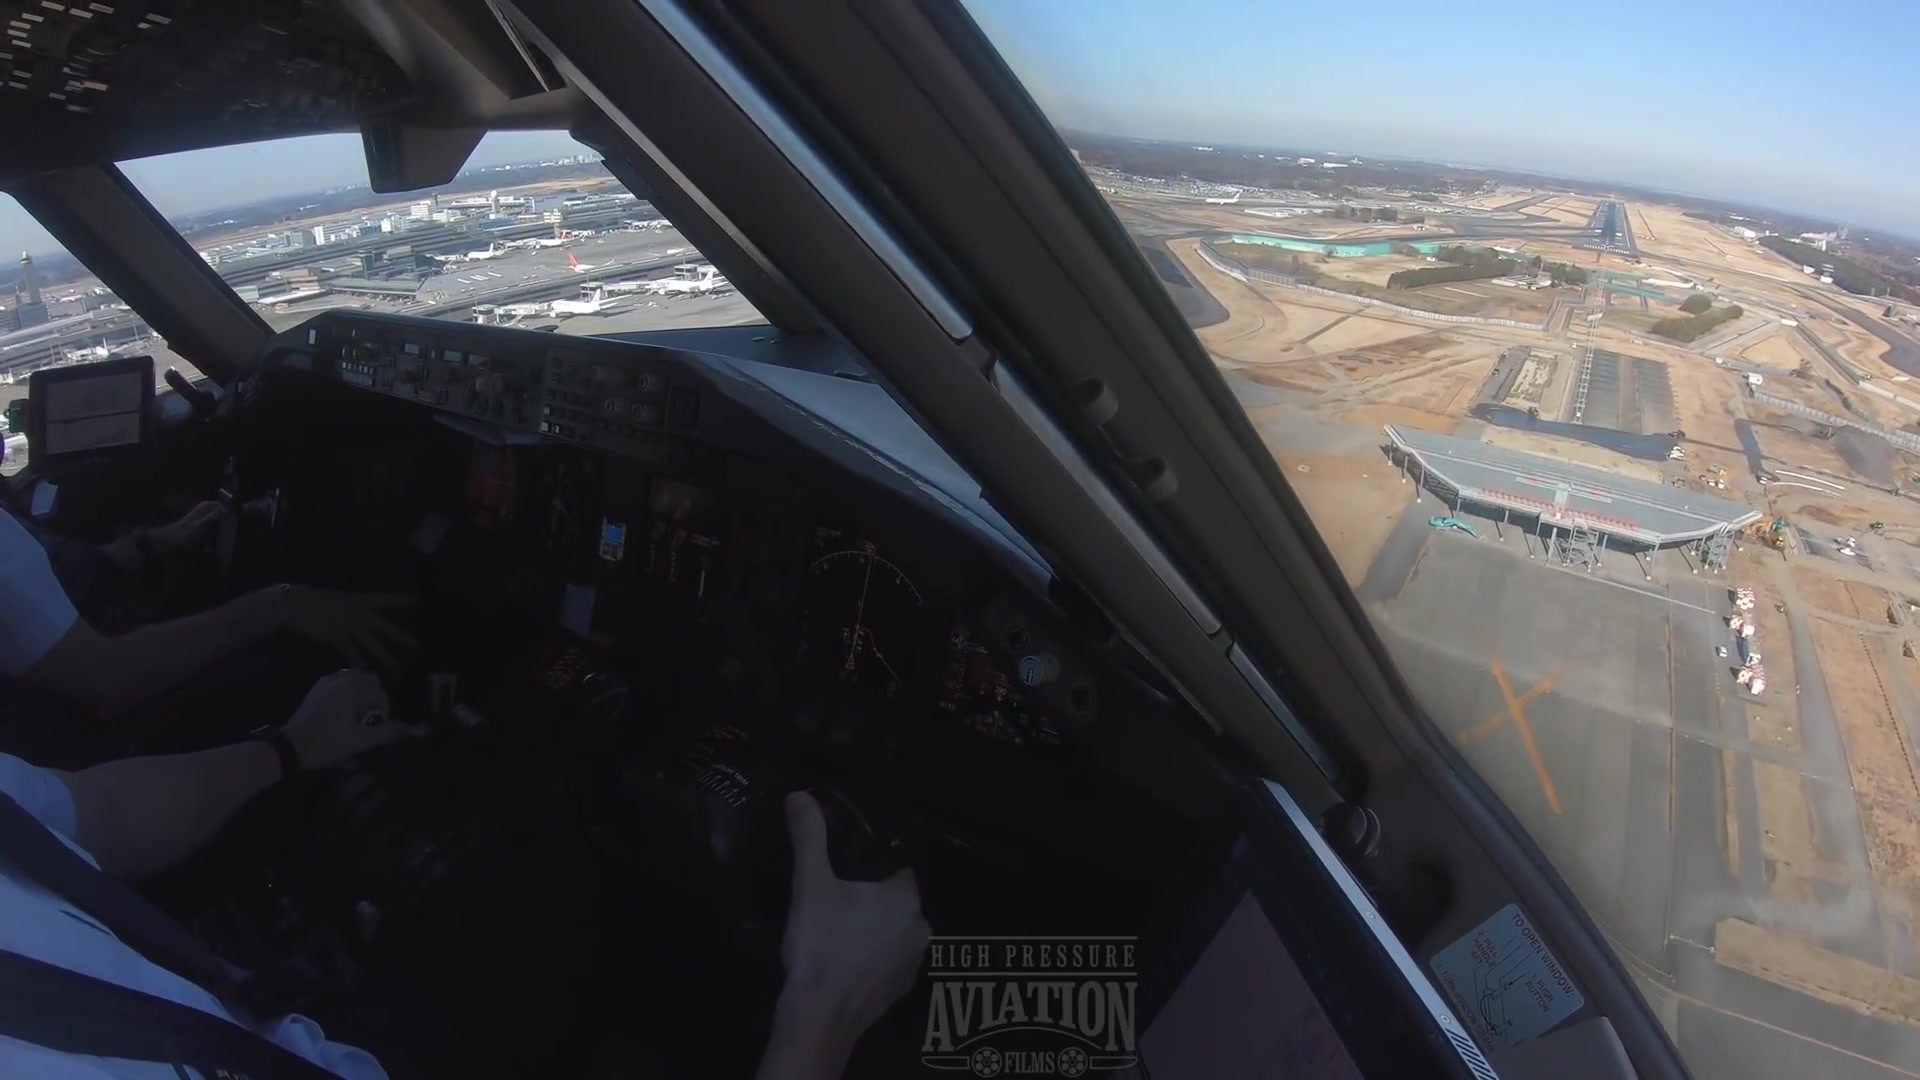entrance: (1582, 241, 1629, 255)
runway: (1571, 199, 1638, 262)
